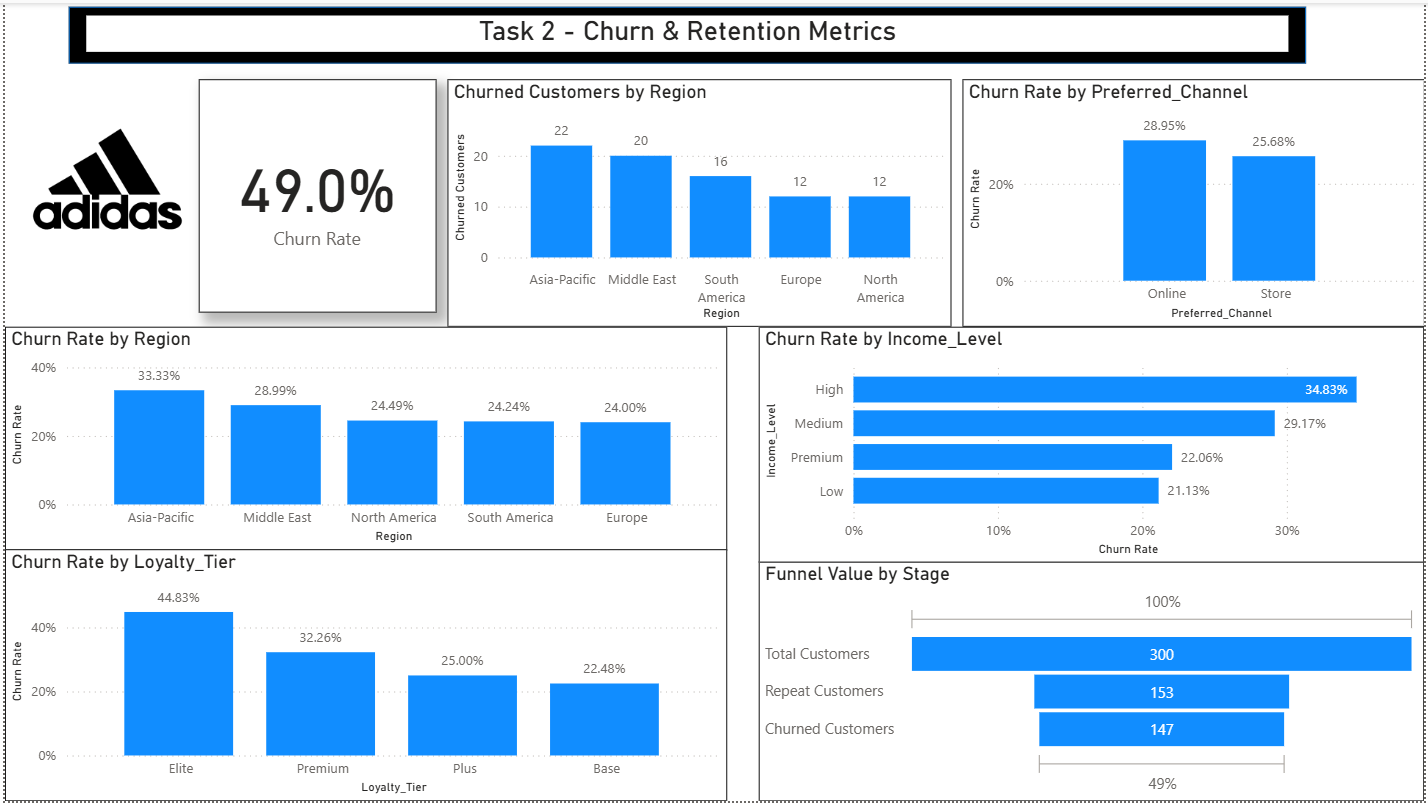

Layout of this report page (visuals, bound fields, positions):
{"tool":"powerbi","page":{"name":"Task 2","canvas":[1280,720],"ordinal":0},"visuals":[{"type":"card","fields":{"Values":["customer churned - Churn_Labelled_Customers.Churn Rate"]},"box":[174.3,68.6,214.3,210],"z":0},{"type":"clusteredColumnChart","fields":{"Category":["Customer demographics adidas - Customer_Demographics.Region"],"Y":["customer churned - Churn_Labelled_Customers.Churned Customers"]},"box":[398.6,68.6,454.3,222.9],"z":1000},{"type":"clusteredColumnChart","fields":{"Category":["Customer demographics adidas - Customer_Demographics.Region"],"Y":["customer churned - Churn_Labelled_Customers.Churn Rate"]},"box":[0,291.4,651.4,201.4],"z":2000},{"type":"clusteredBarChart","fields":{"Category":["Customer demographics adidas - Customer_Demographics.Income_Level"],"Y":["customer churned - Churn_Labelled_Customers.Churn Rate"]},"box":[680,291.4,600,212.9],"z":3000},{"type":"clusteredColumnChart","fields":{"Category":["Customer demographics adidas - Customer_Demographics.Preferred_Channel"],"Y":["customer churned - Churn_Labelled_Customers.Churn Rate"]},"box":[862.9,68.6,417.1,222.9],"z":4000},{"type":"clusteredColumnChart","fields":{"Category":["Loyalty adidas metadata - Loyalty_Program.Loyalty_Tier"],"Y":["customer churned - Churn_Labelled_Customers.Churn Rate"]},"box":[0,492.9,651.4,227.1],"z":5000},{"type":"funnel","fields":{"Category":["Funnel Table.Stage"],"Y":["Customer demographics adidas - Customer_Demographics.Funnel Value"]},"box":[680,504.3,600,215.7],"z":6000},{"type":"image","box":[0,71.4,184.3,175.7],"z":6001},{"type":"shape","box":[57.1,2.9,1115.7,51.4],"z":6002},{"type":"textbox","title":"Task 2 - Churn & Retention Metrics","box":[72.9,11.4,1084.3,32.9],"z":6003}]}

Visuals, with their boxes in screenshot pixels (x1, y1, x2, y2), scaled from the page's 1280x720 canvas onto the 1428x805 screenshot:
card - customer churned - Churn_Labelled_Customers.Churn Rate: l=194, t=77, r=434, b=311
clusteredColumnChart - Customer demographics adidas - Customer_Demographics.Region x customer churned - Churn_Labelled_Customers.Churned Customers: l=445, t=77, r=952, b=326
clusteredColumnChart - Customer demographics adidas - Customer_Demographics.Region x customer churned - Churn_Labelled_Customers.Churn Rate: l=0, t=326, r=727, b=551
clusteredBarChart - Customer demographics adidas - Customer_Demographics.Income_Level x customer churned - Churn_Labelled_Customers.Churn Rate: l=759, t=326, r=1427, b=564
clusteredColumnChart - Customer demographics adidas - Customer_Demographics.Preferred_Channel x customer churned - Churn_Labelled_Customers.Churn Rate: l=963, t=77, r=1427, b=326
clusteredColumnChart - Loyalty adidas metadata - Loyalty_Program.Loyalty_Tier x customer churned - Churn_Labelled_Customers.Churn Rate: l=0, t=551, r=727, b=804
funnel - Funnel Table.Stage x Customer demographics adidas - Customer_Demographics.Funnel Value: l=759, t=564, r=1427, b=804
image: l=0, t=80, r=206, b=276
shape: l=64, t=3, r=1308, b=61
"Task 2 - Churn & Retention Metrics" textbox: l=81, t=13, r=1291, b=50
